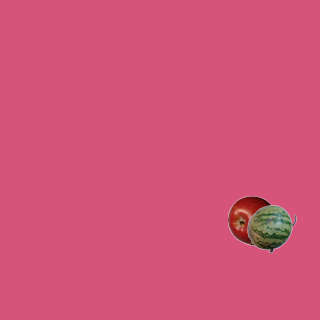Apple Braeburn: (227, 195, 277, 245)
Watermelon: (246, 203, 296, 253)
